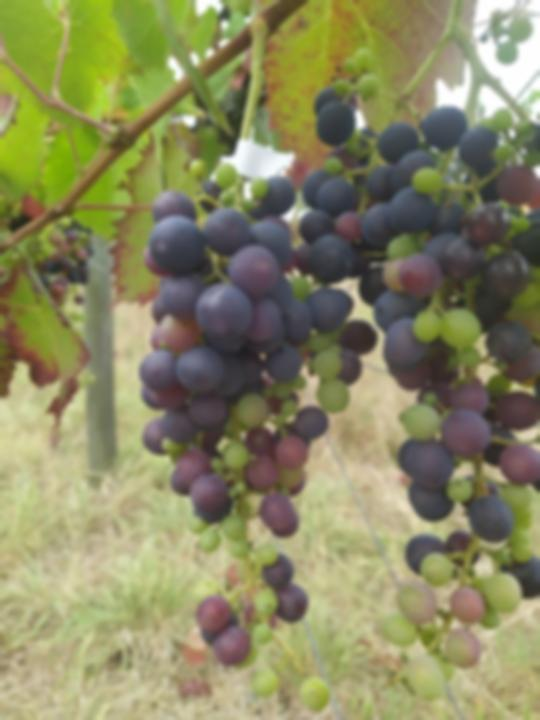grape: (311, 42, 540, 703), (127, 156, 377, 714)
